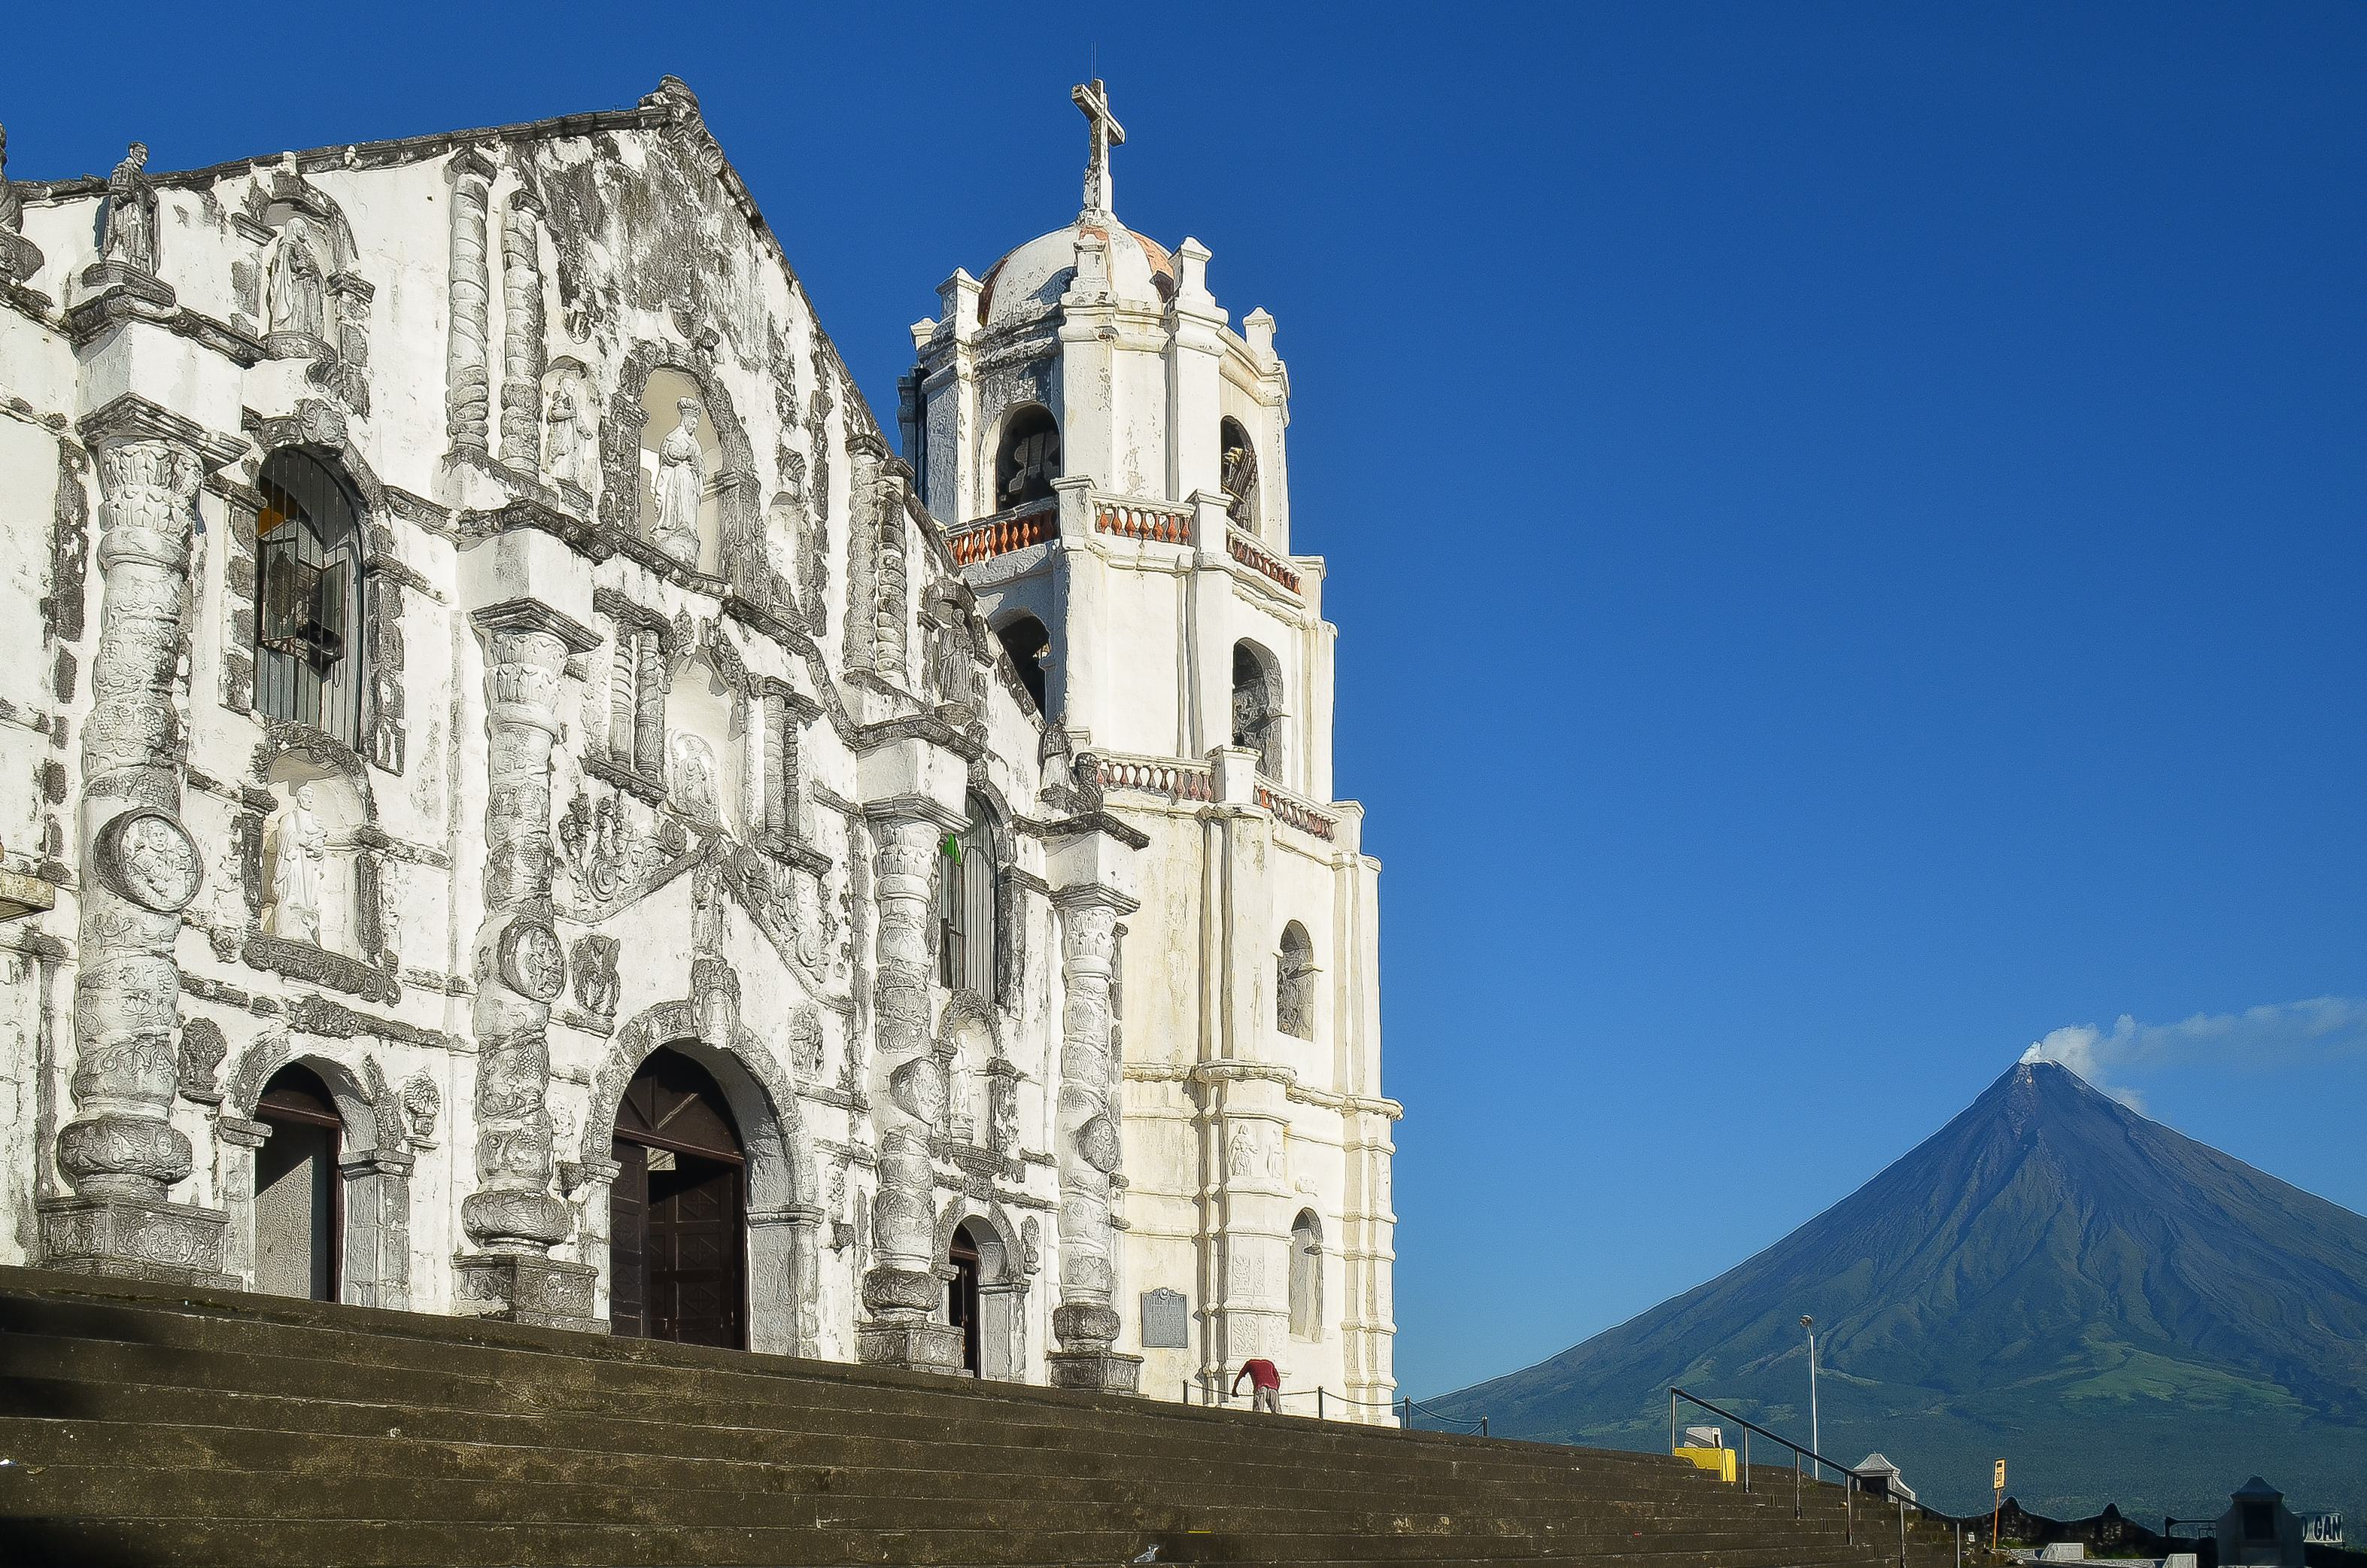daraga_church_daraga_albay: (3, 32, 1410, 1435)
